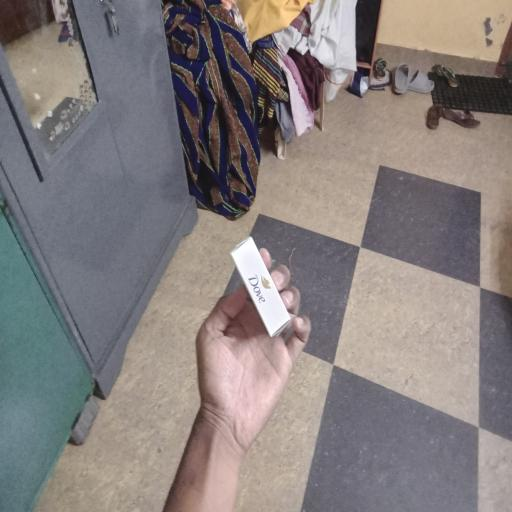Dove`1: (226, 235, 297, 340)
